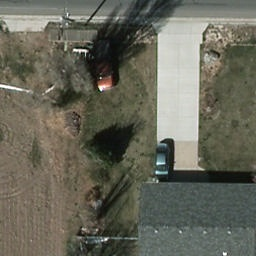car: (157, 142, 171, 182)
pickup: (94, 39, 117, 91)
